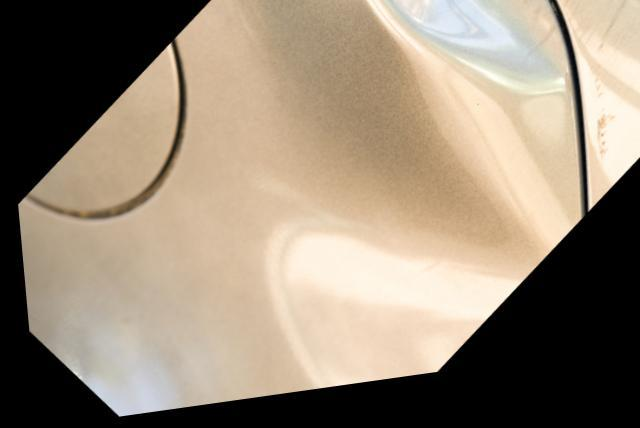dent: (378, 0, 565, 111)
scratch: (548, 0, 634, 175)
